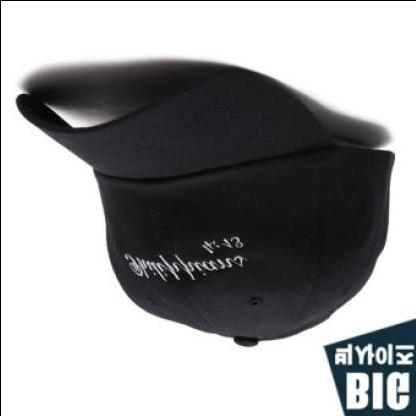cap: (10, 59, 400, 350)
